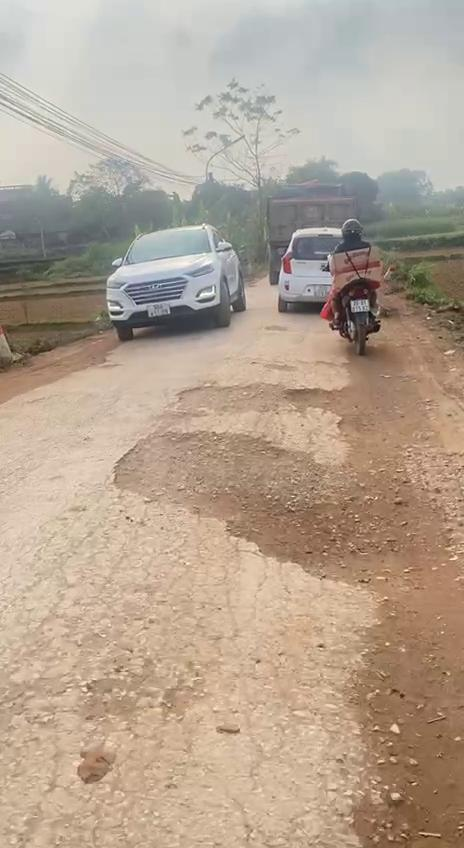pothole: (107, 424, 453, 592), (329, 665, 464, 848), (174, 376, 352, 434)
